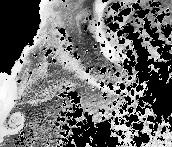CE: (8, 111, 26, 130)
